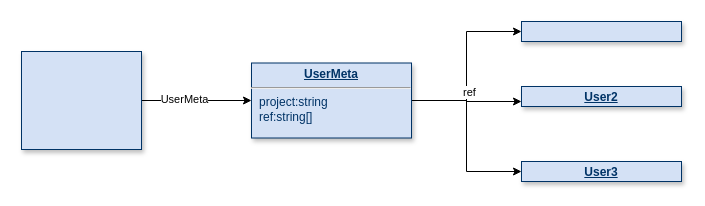
This 705x206 diagram has some shape labels left out. Each missing label, with the centre of its shape:
"Account account:string password:string unionId:string user:UserMeta" goes at point (82, 101).
"User1" goes at point (602, 32).
